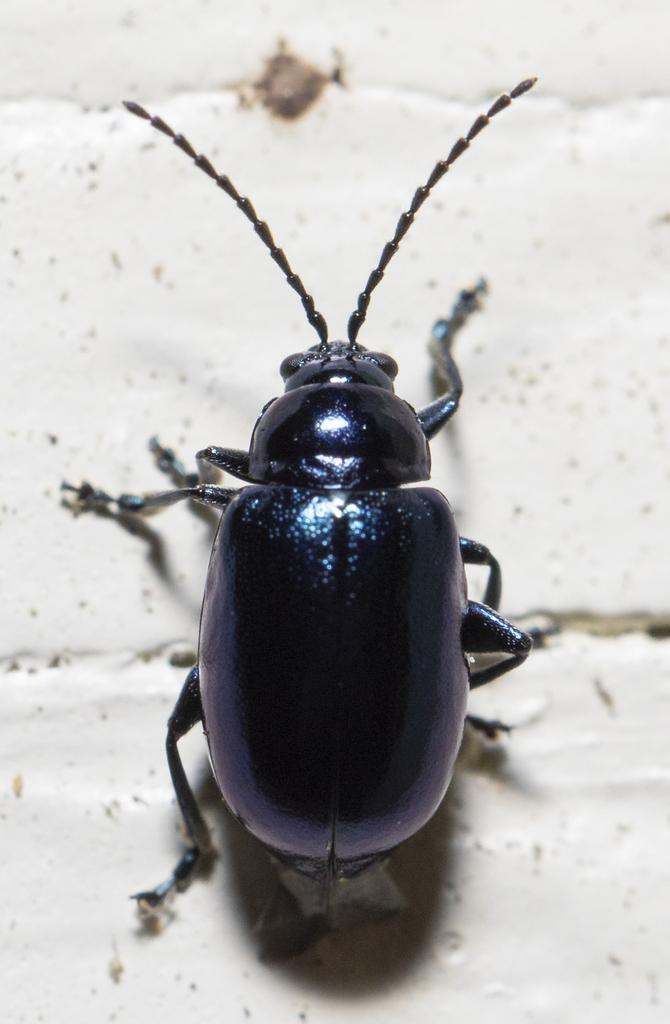flea_beetle: (0, 36, 670, 957)
